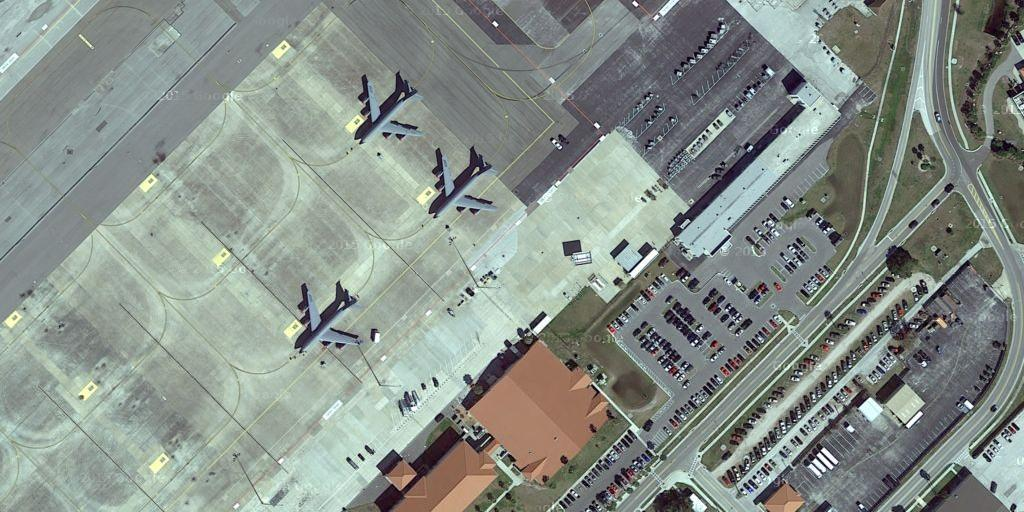KC-135: (351, 65, 428, 152), (428, 141, 502, 227), (295, 275, 366, 358)
